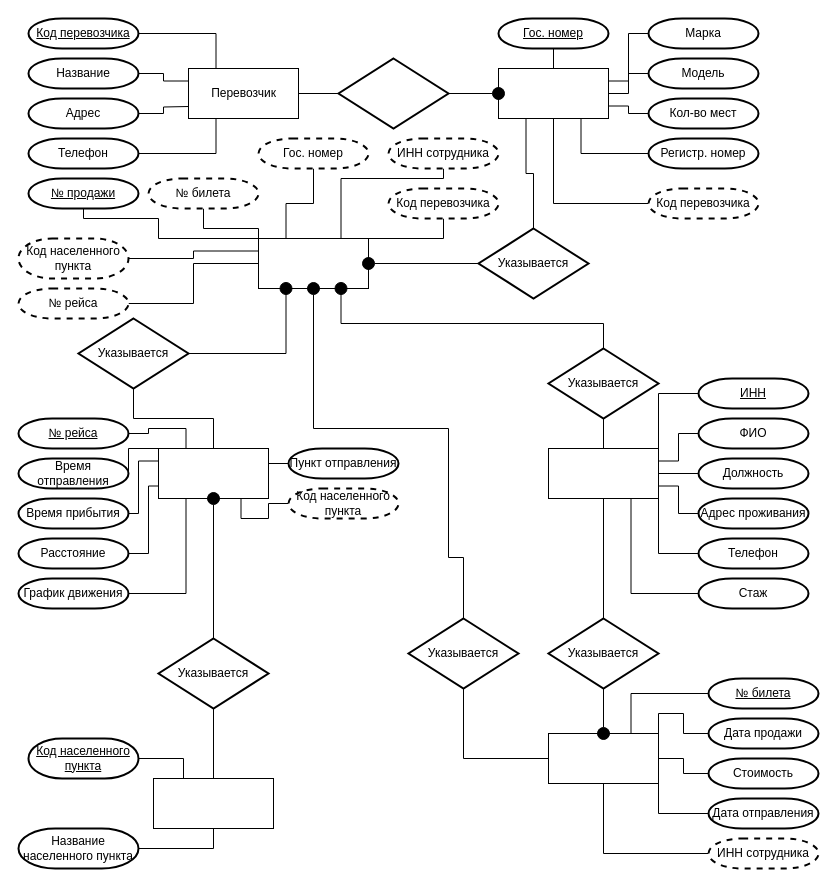
The diagram is 836 pixels wide and 886 high, and some of its shapes have lost their labels. The centre of each missing label's shape, as x and y in pixels:
Автобус: the point at 553,93
Билет: the point at 603,758
Населенные пункты: the point at 213,803
Принадлежит: the point at 393,93
Путевой лист: the point at 313,263
Рейс: the point at 213,473
Сотрудники: the point at 603,473
